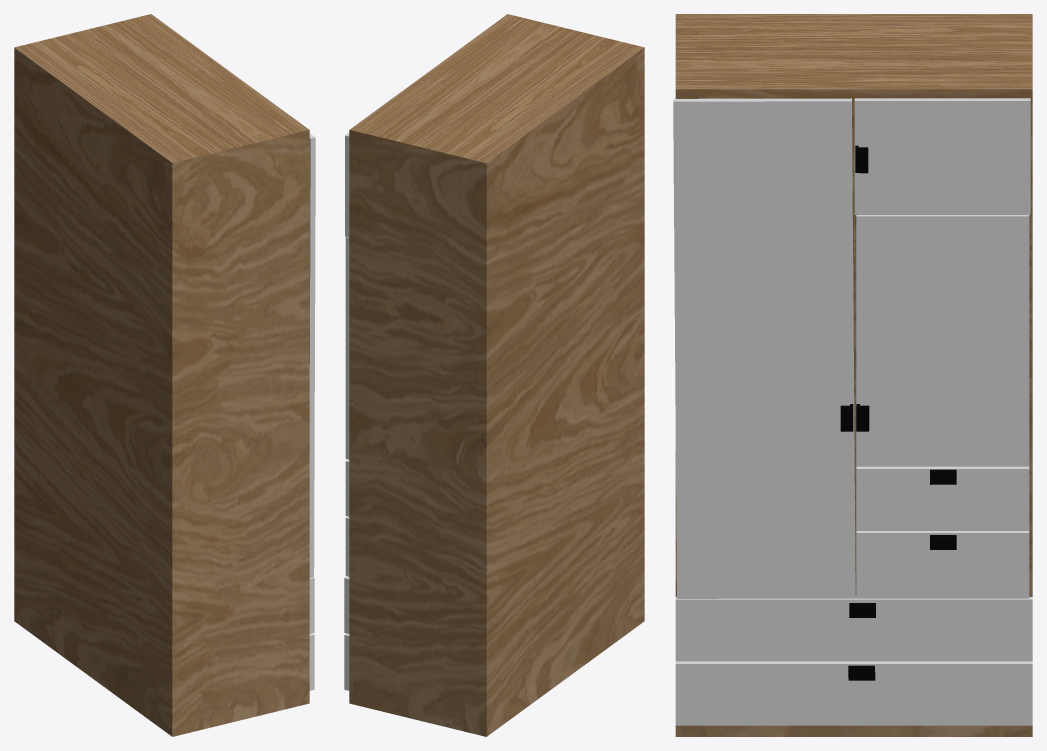
File: wardrobe.glb
3 views of the same model, side by side, from view 1: azimuth 30°, elevation 25°; view 2: azimuth 150°, elevation 25°; view 3: azimuth 270°, elevation 25° (orthographic). The views are drawn at different scales.
Parts seen in each view (by area): view 1: Cube_0; view 2: Cube_0; view 3: Cube_0.
Boxes of the visible parts, x1,y1,x2,y2 form: Cube_0: [14, 14, 315, 736]; Cube_0: [344, 14, 644, 736]; Cube_0: [673, 14, 1032, 736].
Size of the model in its own units: 1.08 by 4 by 2.01.
3 materials, 1 textured.
